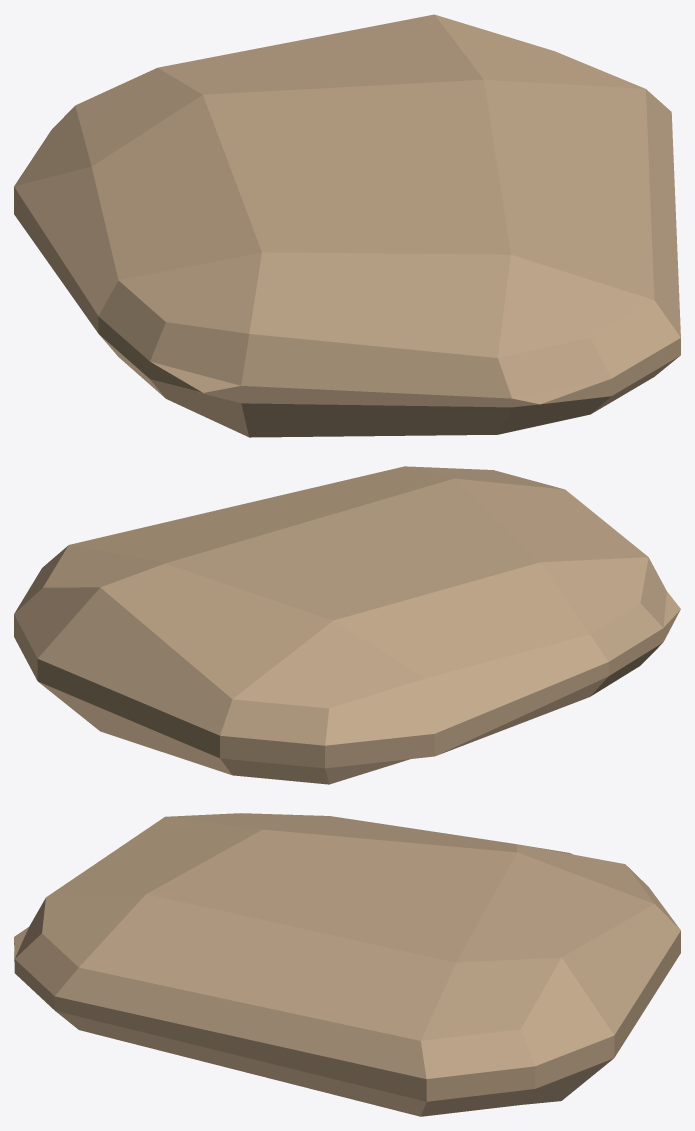
Rendered from rock_8.FBX.
The picture shows the model from 3 angles, top to bottom: view 1: azimuth 30°, elevation 25°; view 2: azimuth 150°, elevation 25°; view 3: azimuth 270°, elevation 25°; orthographic projection. The views are drawn at different scales.
Visible parts, largest first — view 1: rock_8; view 2: rock_8; view 3: rock_8.
Part boxes in pixels (<box>): rock_8: <box>14,14,680,437</box>; rock_8: <box>14,466,680,784</box>; rock_8: <box>14,813,680,1116</box>.
Bounding box in the file's own units: 2251 × 610 × 2489.
